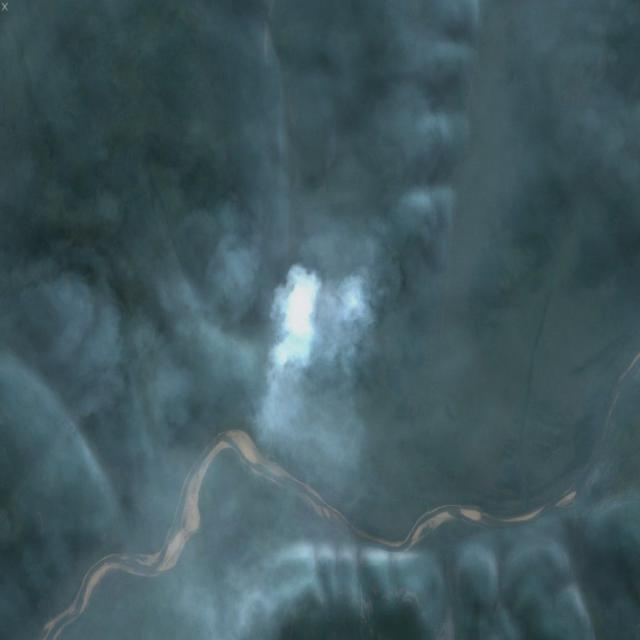fire: (274, 274, 366, 364)
